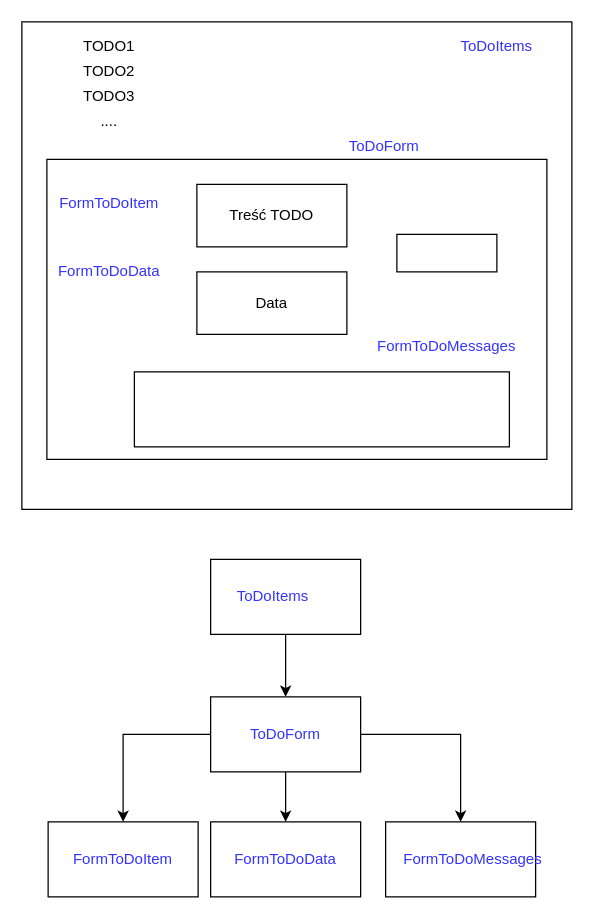
Some shapes in this 594 by 919 pixel diagram are drawn without their labels. The shapes that lost their labels are listed below. From the top down, each one's box as (x1, y1, x2, y2) in pixels, then its label:
(396, 233, 497, 272): OK
(133, 371, 509, 447): Errors/Validation/Messages
